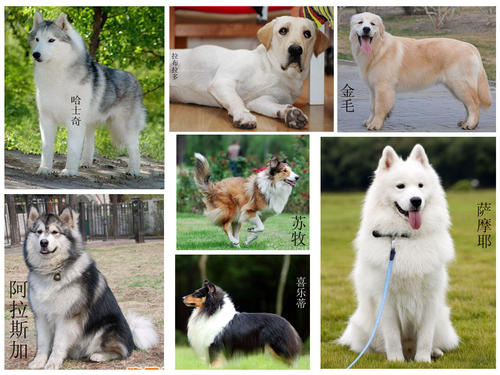dog: (355, 144, 479, 238), (7, 202, 99, 271), (251, 9, 326, 84), (19, 12, 84, 75), (178, 276, 234, 321), (346, 10, 390, 56), (259, 152, 295, 188)
